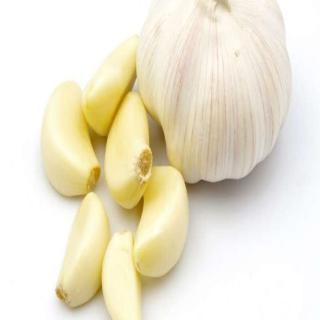Bawang Putih: (135, 1, 294, 188), (35, 72, 113, 204)
